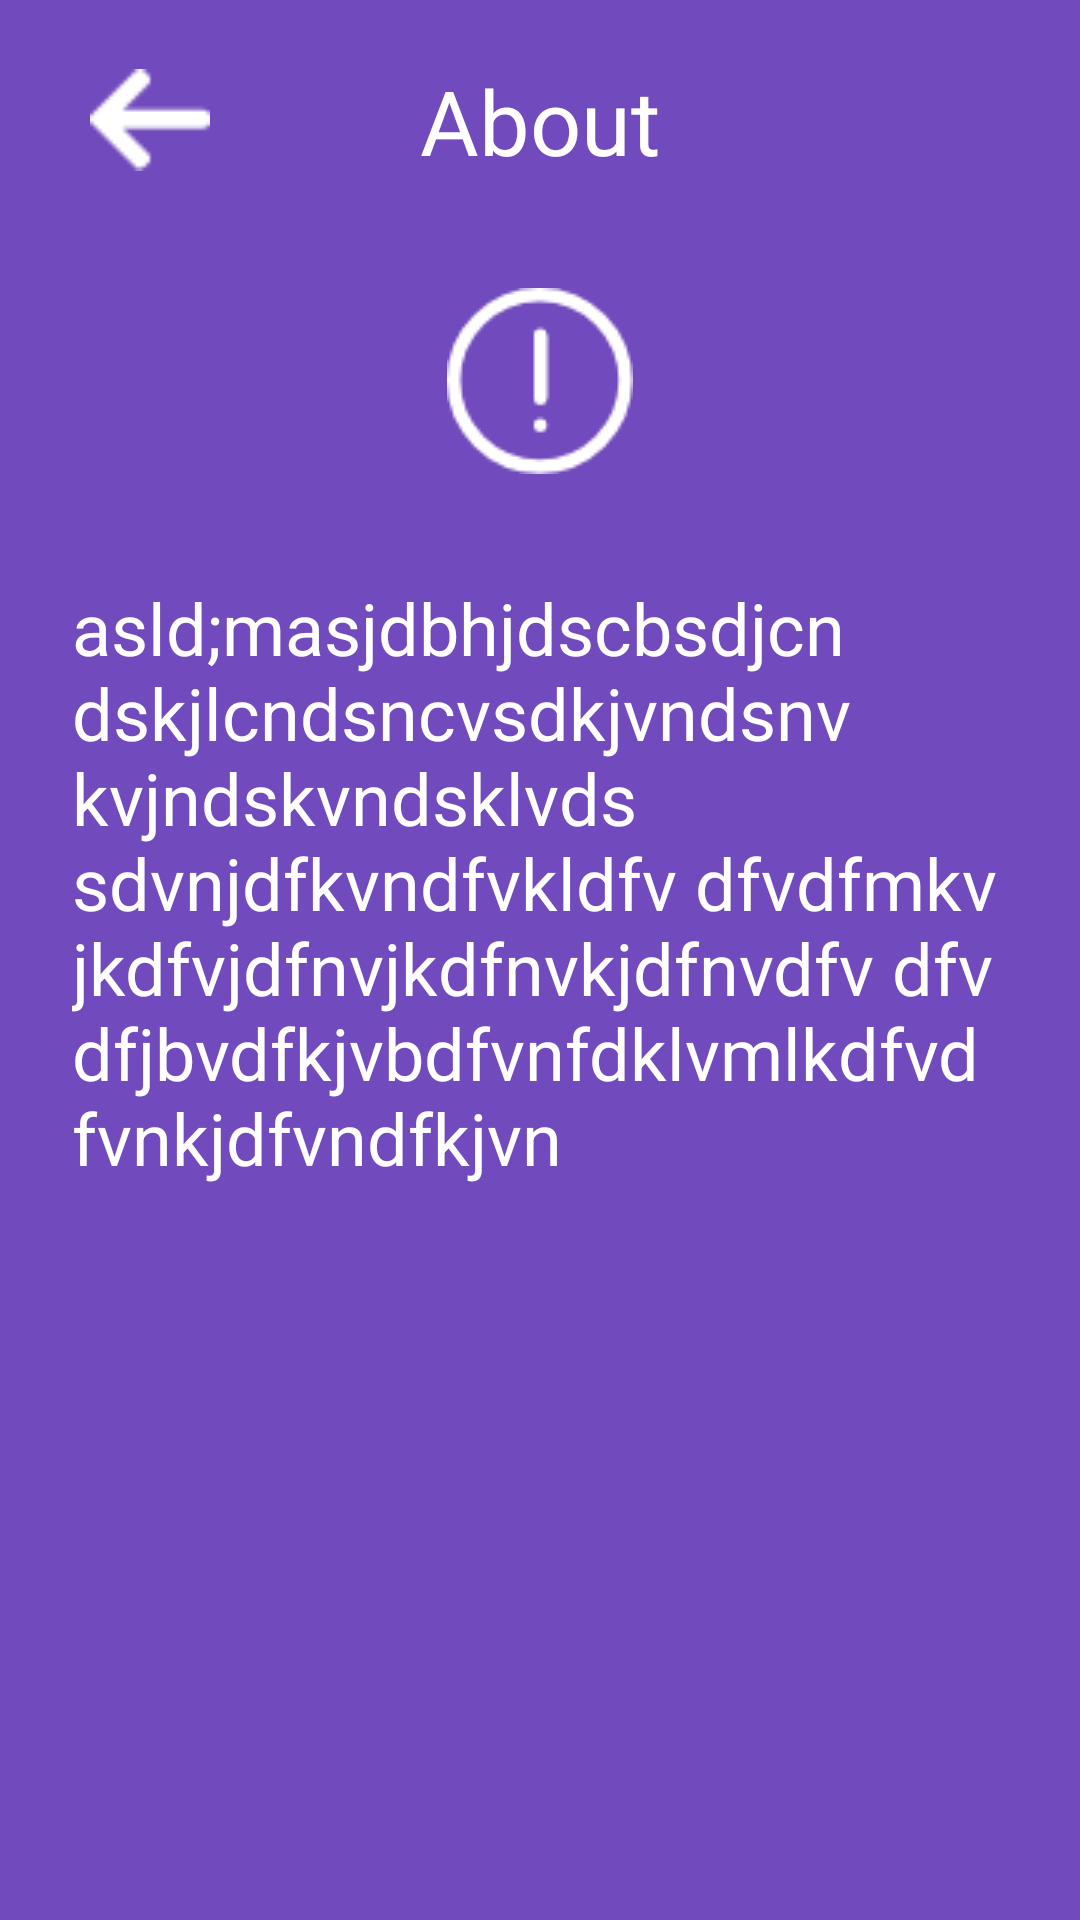

Icons on this 1080*1920 Android screen, each with the point to tap as [x,y]:
back: [150,120]
setting info: [540,381]
